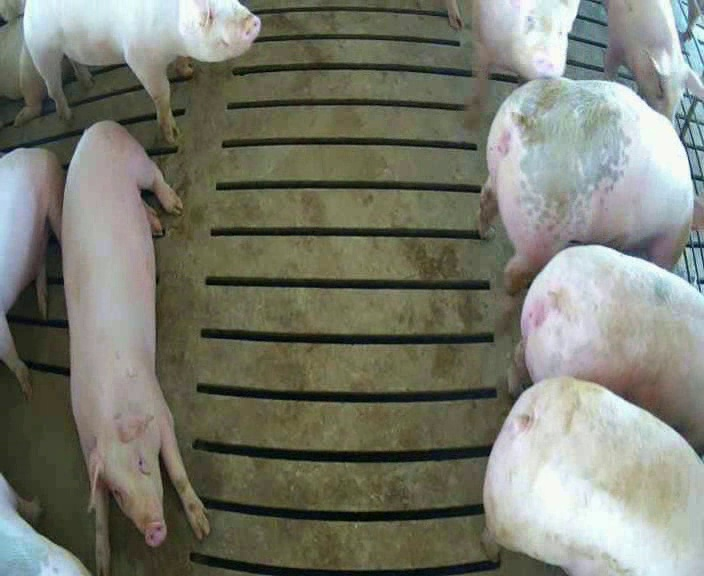pig: (62, 121, 209, 573), (481, 80, 693, 292), (483, 377, 703, 574), (521, 246, 703, 453), (24, 2, 260, 143), (0, 148, 63, 397), (605, 2, 703, 119), (0, 16, 46, 126)
